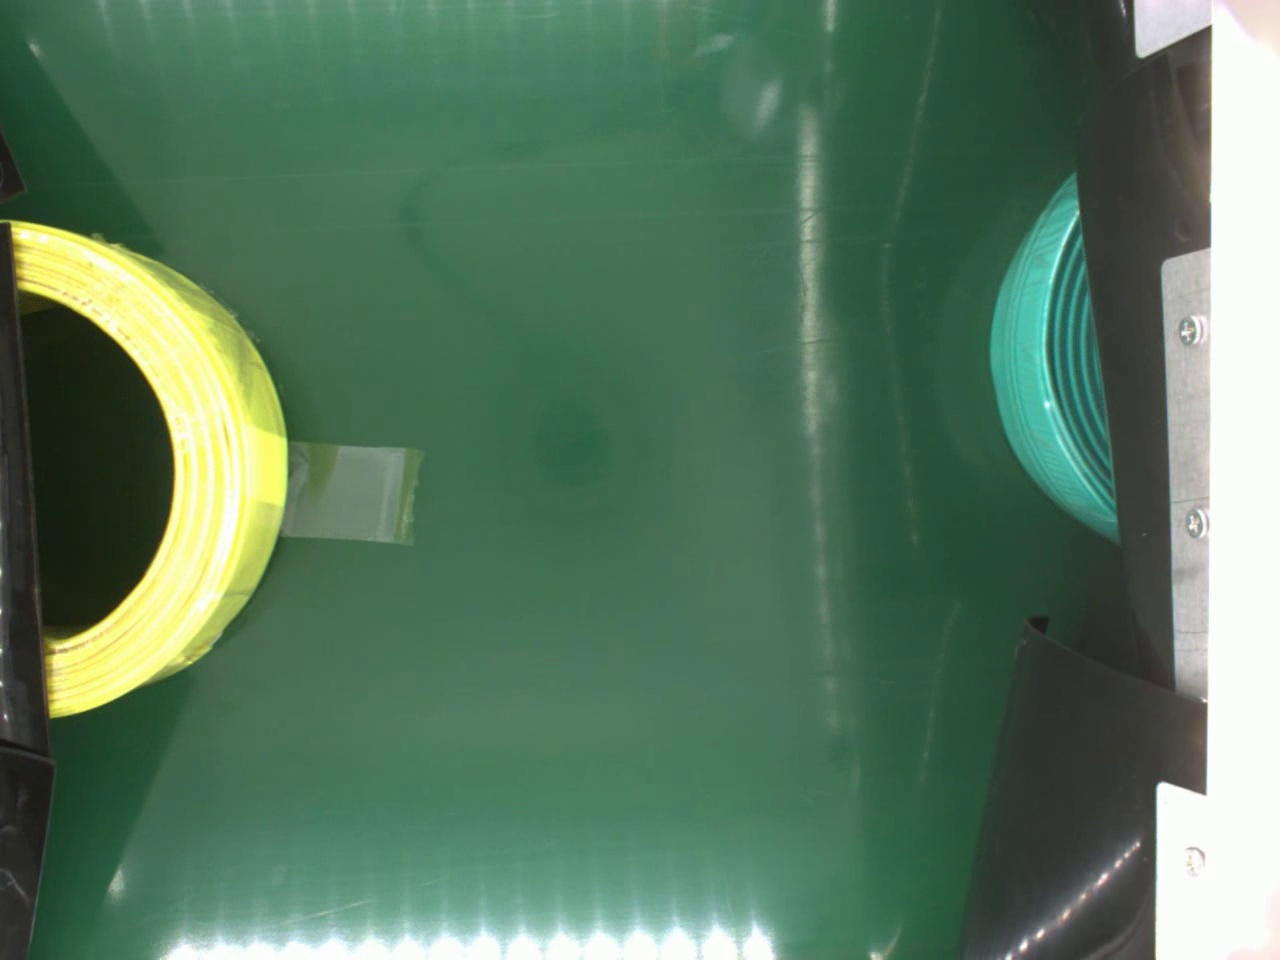green: (987, 169, 1121, 537)
yellow: (5, 214, 284, 727)
